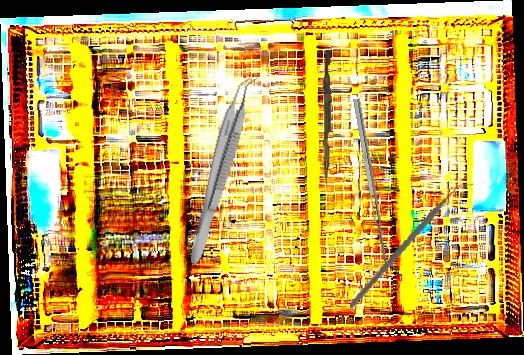Chopper: (349, 165, 474, 327)
Pusher: (321, 49, 334, 186)
Spatula Surgical: (352, 97, 398, 271)
Tissue Forceps: (186, 72, 259, 268)
